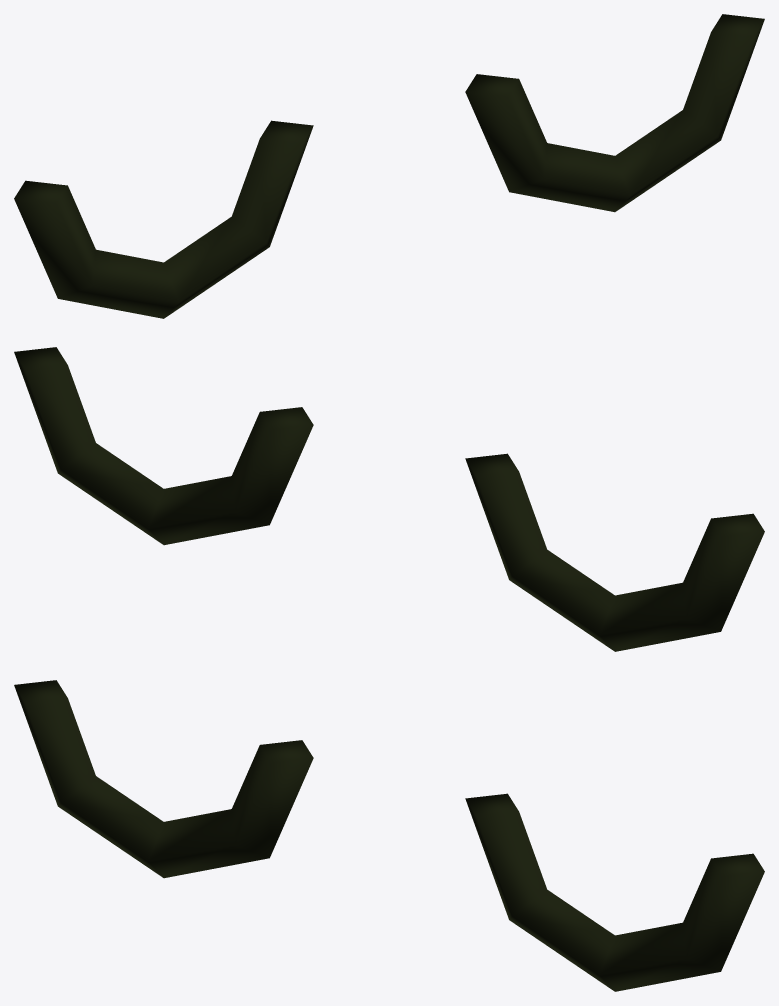
Rendered from Sleepy.glb.
The picture shows the model from 3 angles, top to bottom: view 1: azimuth 30°, elevation 25°; view 2: azimuth 150°, elevation 25°; view 3: azimuth 330°, elevation 25°; orthographic projection.
Visible parts, largest first — view 1: Sleepy; view 2: Sleepy; view 3: Sleepy.
Boxes of the visible parts, left/top/right/bottom form: Sleepy: left=14, top=14, right=764, bottom=318; Sleepy: left=14, top=347, right=764, bottom=651; Sleepy: left=14, top=680, right=764, bottom=991.
Size of the model in its own units: 4.59 by 0.9362 by 0.3295.
1 material, 1 textured.
